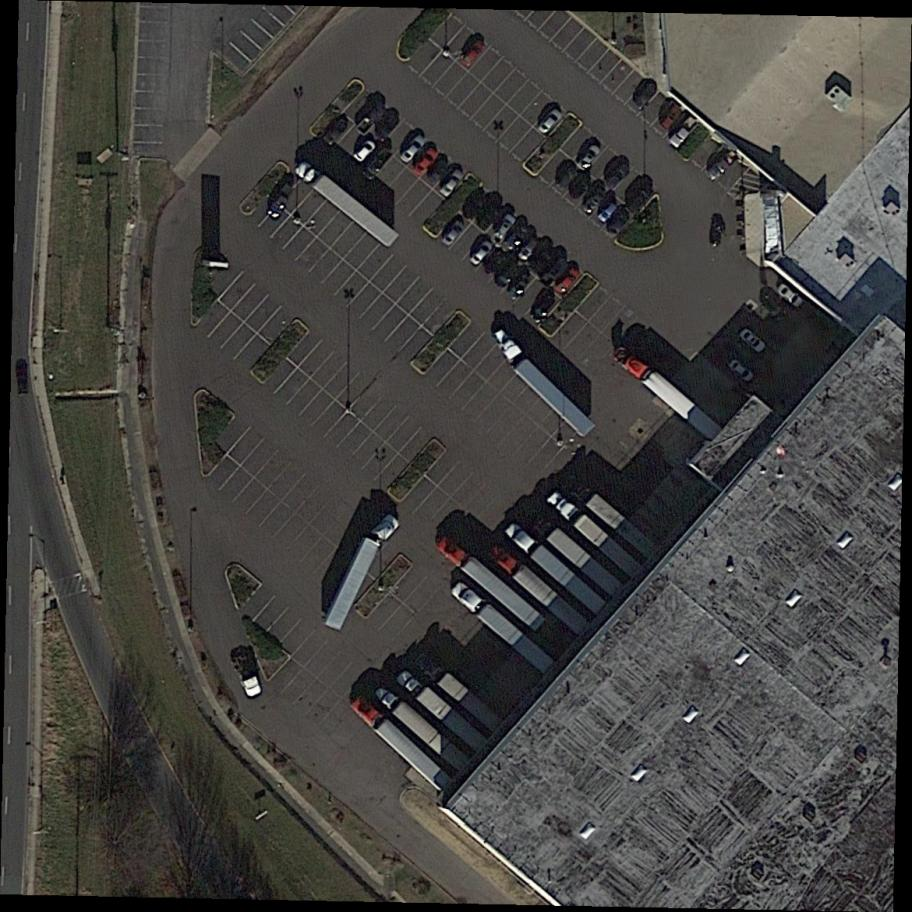large-vehicle: (483, 319, 601, 444), (319, 504, 407, 638), (436, 534, 547, 633), (612, 346, 724, 442), (451, 581, 557, 677), (349, 697, 453, 793), (504, 522, 607, 617), (486, 544, 591, 637), (294, 159, 401, 250), (375, 683, 472, 773), (547, 490, 642, 578), (396, 668, 488, 752), (414, 653, 505, 733), (536, 518, 624, 598), (574, 484, 660, 559)
small-vehicle: (524, 290, 561, 328), (454, 34, 490, 72), (360, 144, 396, 182), (702, 148, 741, 182), (264, 183, 295, 224), (355, 100, 389, 137), (396, 130, 429, 167), (471, 197, 504, 233), (500, 221, 532, 257), (667, 114, 698, 149), (408, 145, 439, 179), (505, 269, 536, 303), (553, 264, 584, 298), (624, 183, 655, 216), (372, 111, 403, 143), (603, 159, 635, 190), (630, 79, 660, 112), (775, 281, 807, 311), (489, 211, 518, 244), (725, 356, 756, 386), (603, 207, 633, 238), (422, 157, 451, 189), (535, 105, 564, 137), (439, 217, 467, 249), (542, 256, 570, 288), (580, 186, 609, 216), (438, 167, 465, 199), (737, 326, 766, 355), (322, 116, 350, 146), (468, 238, 495, 269), (494, 260, 521, 291), (553, 163, 581, 191), (351, 136, 378, 165), (576, 142, 603, 171), (659, 104, 686, 132), (569, 173, 594, 200), (518, 236, 542, 264), (595, 199, 620, 224), (709, 218, 724, 248), (16, 368, 31, 396)
